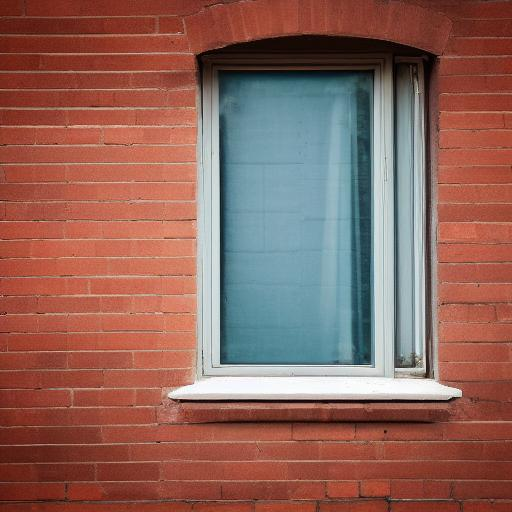Window: (164, 0, 467, 425)
